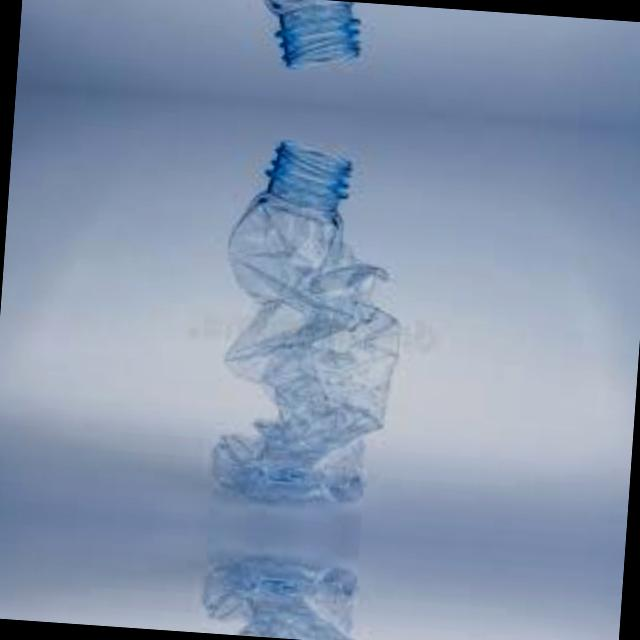Plastic: (162, 128, 447, 522), (154, 539, 419, 640), (193, 0, 457, 83)
